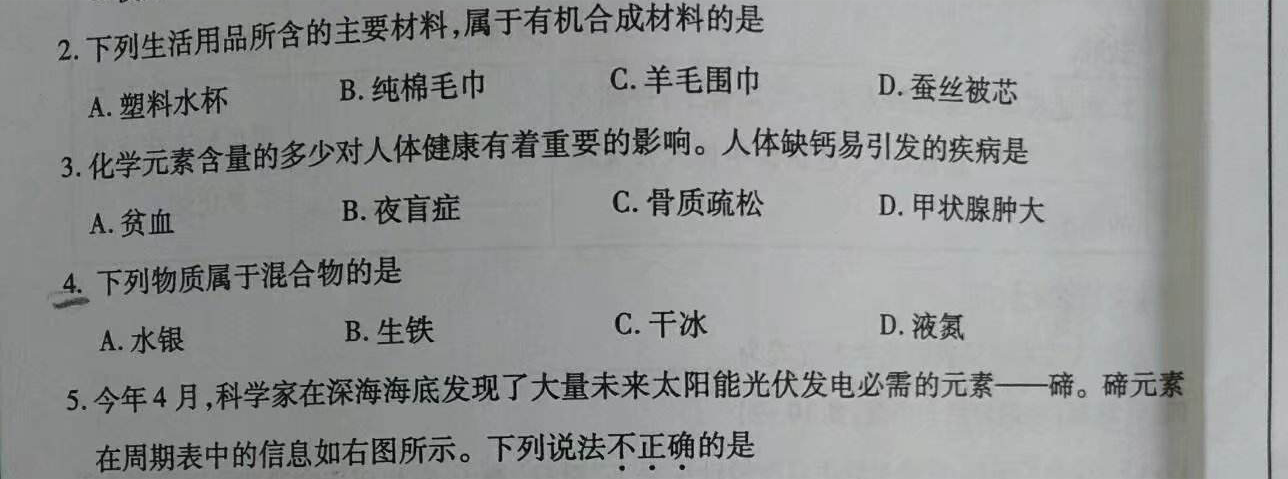text: (84, 65, 1028, 122), (62, 126, 1043, 179), (78, 186, 1068, 238), (49, 371, 1192, 412), (88, 310, 977, 358), (43, 5, 774, 63), (84, 430, 766, 472), (60, 251, 405, 301)
